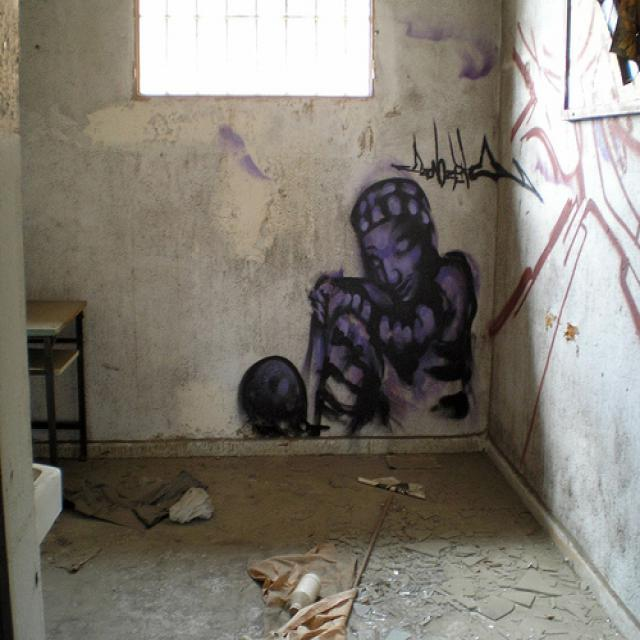2001: (134, 0, 371, 94)
bottle crop: (287, 571, 320, 610)
drawing: (241, 176, 477, 435)
floor -X: (33, 449, 623, 637)
paper cup with straws: (244, 539, 355, 636), (63, 467, 204, 526)
stick: (351, 488, 393, 594)
table runner: (27, 297, 86, 463)
wall clock: (19, 0, 502, 456), (481, 0, 637, 637)
washbasin of dentist: (31, 461, 60, 544)
